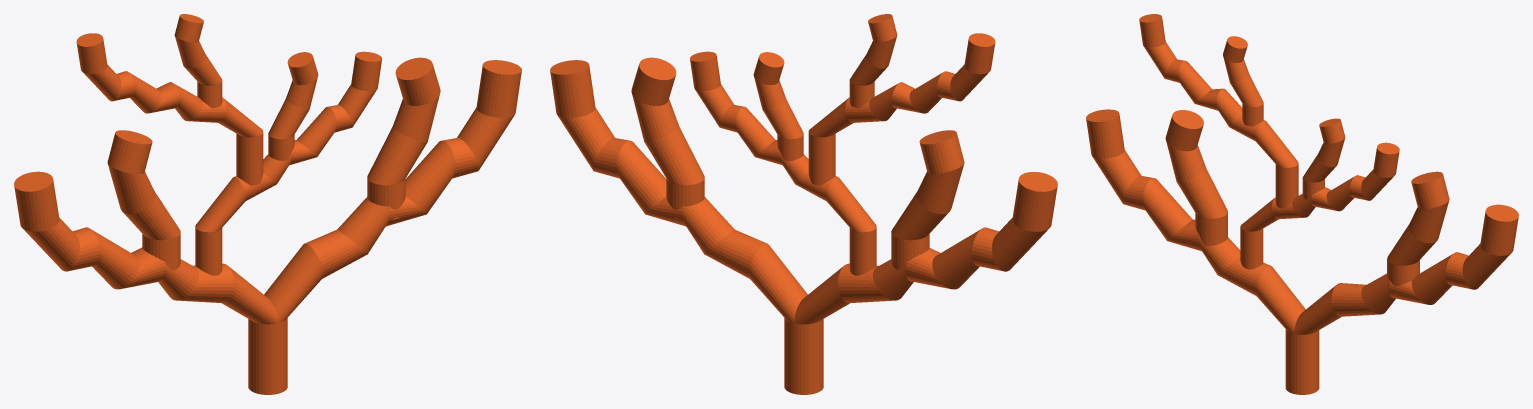
3 views of the same model, side by side, from view 1: azimuth 30°, elevation 25°; view 2: azimuth 150°, elevation 25°; view 3: azimuth 330°, elevation 25° (orthographic). The views are drawn at different scales.
Parts seen in each view (by area): view 1: Cylinder.003; view 2: Cylinder.003; view 3: Cylinder.003.
Boxes of the visible parts, x1,y1,x2,y2 form: Cylinder.003: (14, 14, 521, 394); Cylinder.003: (550, 14, 1057, 394); Cylinder.003: (1086, 14, 1518, 394).
Size of the model in its own units: 1.36 by 1.01 by 0.0927.
